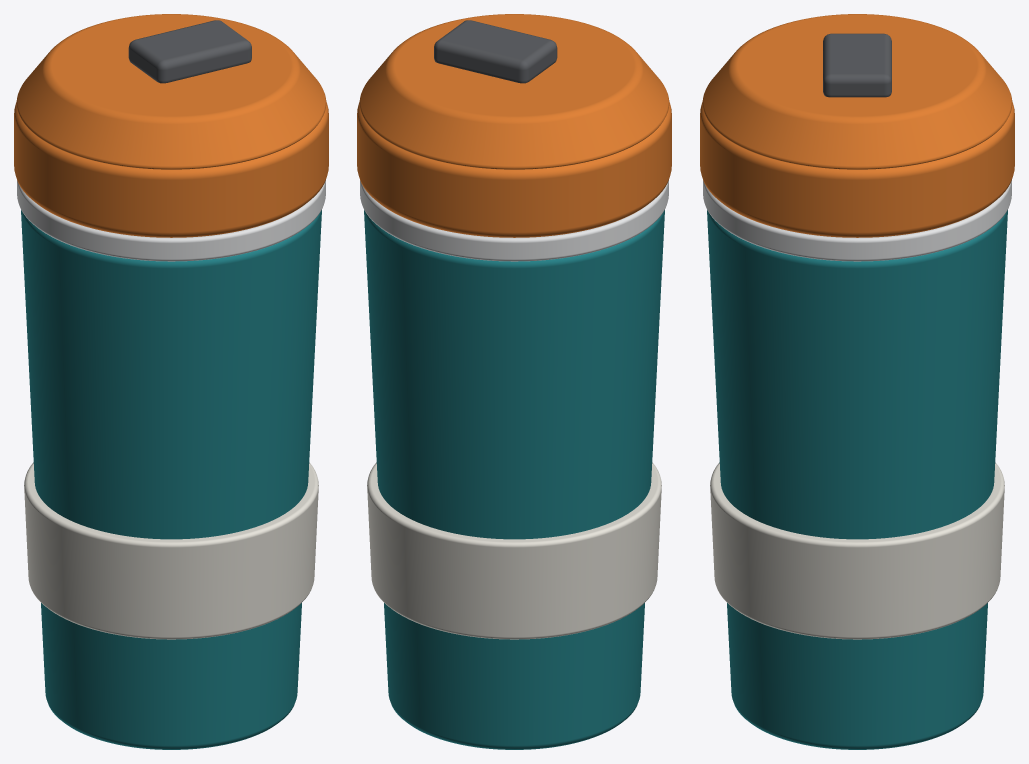
File: colored_travel_mug.glb
The picture shows the model from 3 angles, left to right: view 1: azimuth 30°, elevation 25°; view 2: azimuth 150°, elevation 25°; view 3: azimuth 270°, elevation 25°; orthographic projection.
Visible parts, largest first — view 1: body, lid_dome, grip_band, lid, lid_ring, sip_cap; view 2: body, lid_dome, grip_band, lid, lid_ring, sip_cap; view 3: body, lid_dome, grip_band, lid, lid_ring, sip_cap.
Boxes of the visible parts, x1,y1,x2,y2 form: body: (21,210,321,749); lid_dome: (16,14,326,169); grip_band: (24,462,318,639); lid: (14,102,328,237); lid_ring: (17,180,325,261); sip_cap: (128,20,251,83); body: (364,210,664,749); lid_dome: (359,14,669,169); grip_band: (367,462,661,639); lid: (357,102,671,237); lid_ring: (360,180,668,261); sip_cap: (434,20,557,83); body: (707,210,1007,749); lid_dome: (702,14,1012,169); grip_band: (710,462,1004,639); lid: (700,102,1014,237); lid_ring: (703,180,1011,261); sip_cap: (823,33,891,97).
Size of the model in its own units: 0.0864 by 0.1983 by 0.0864.
